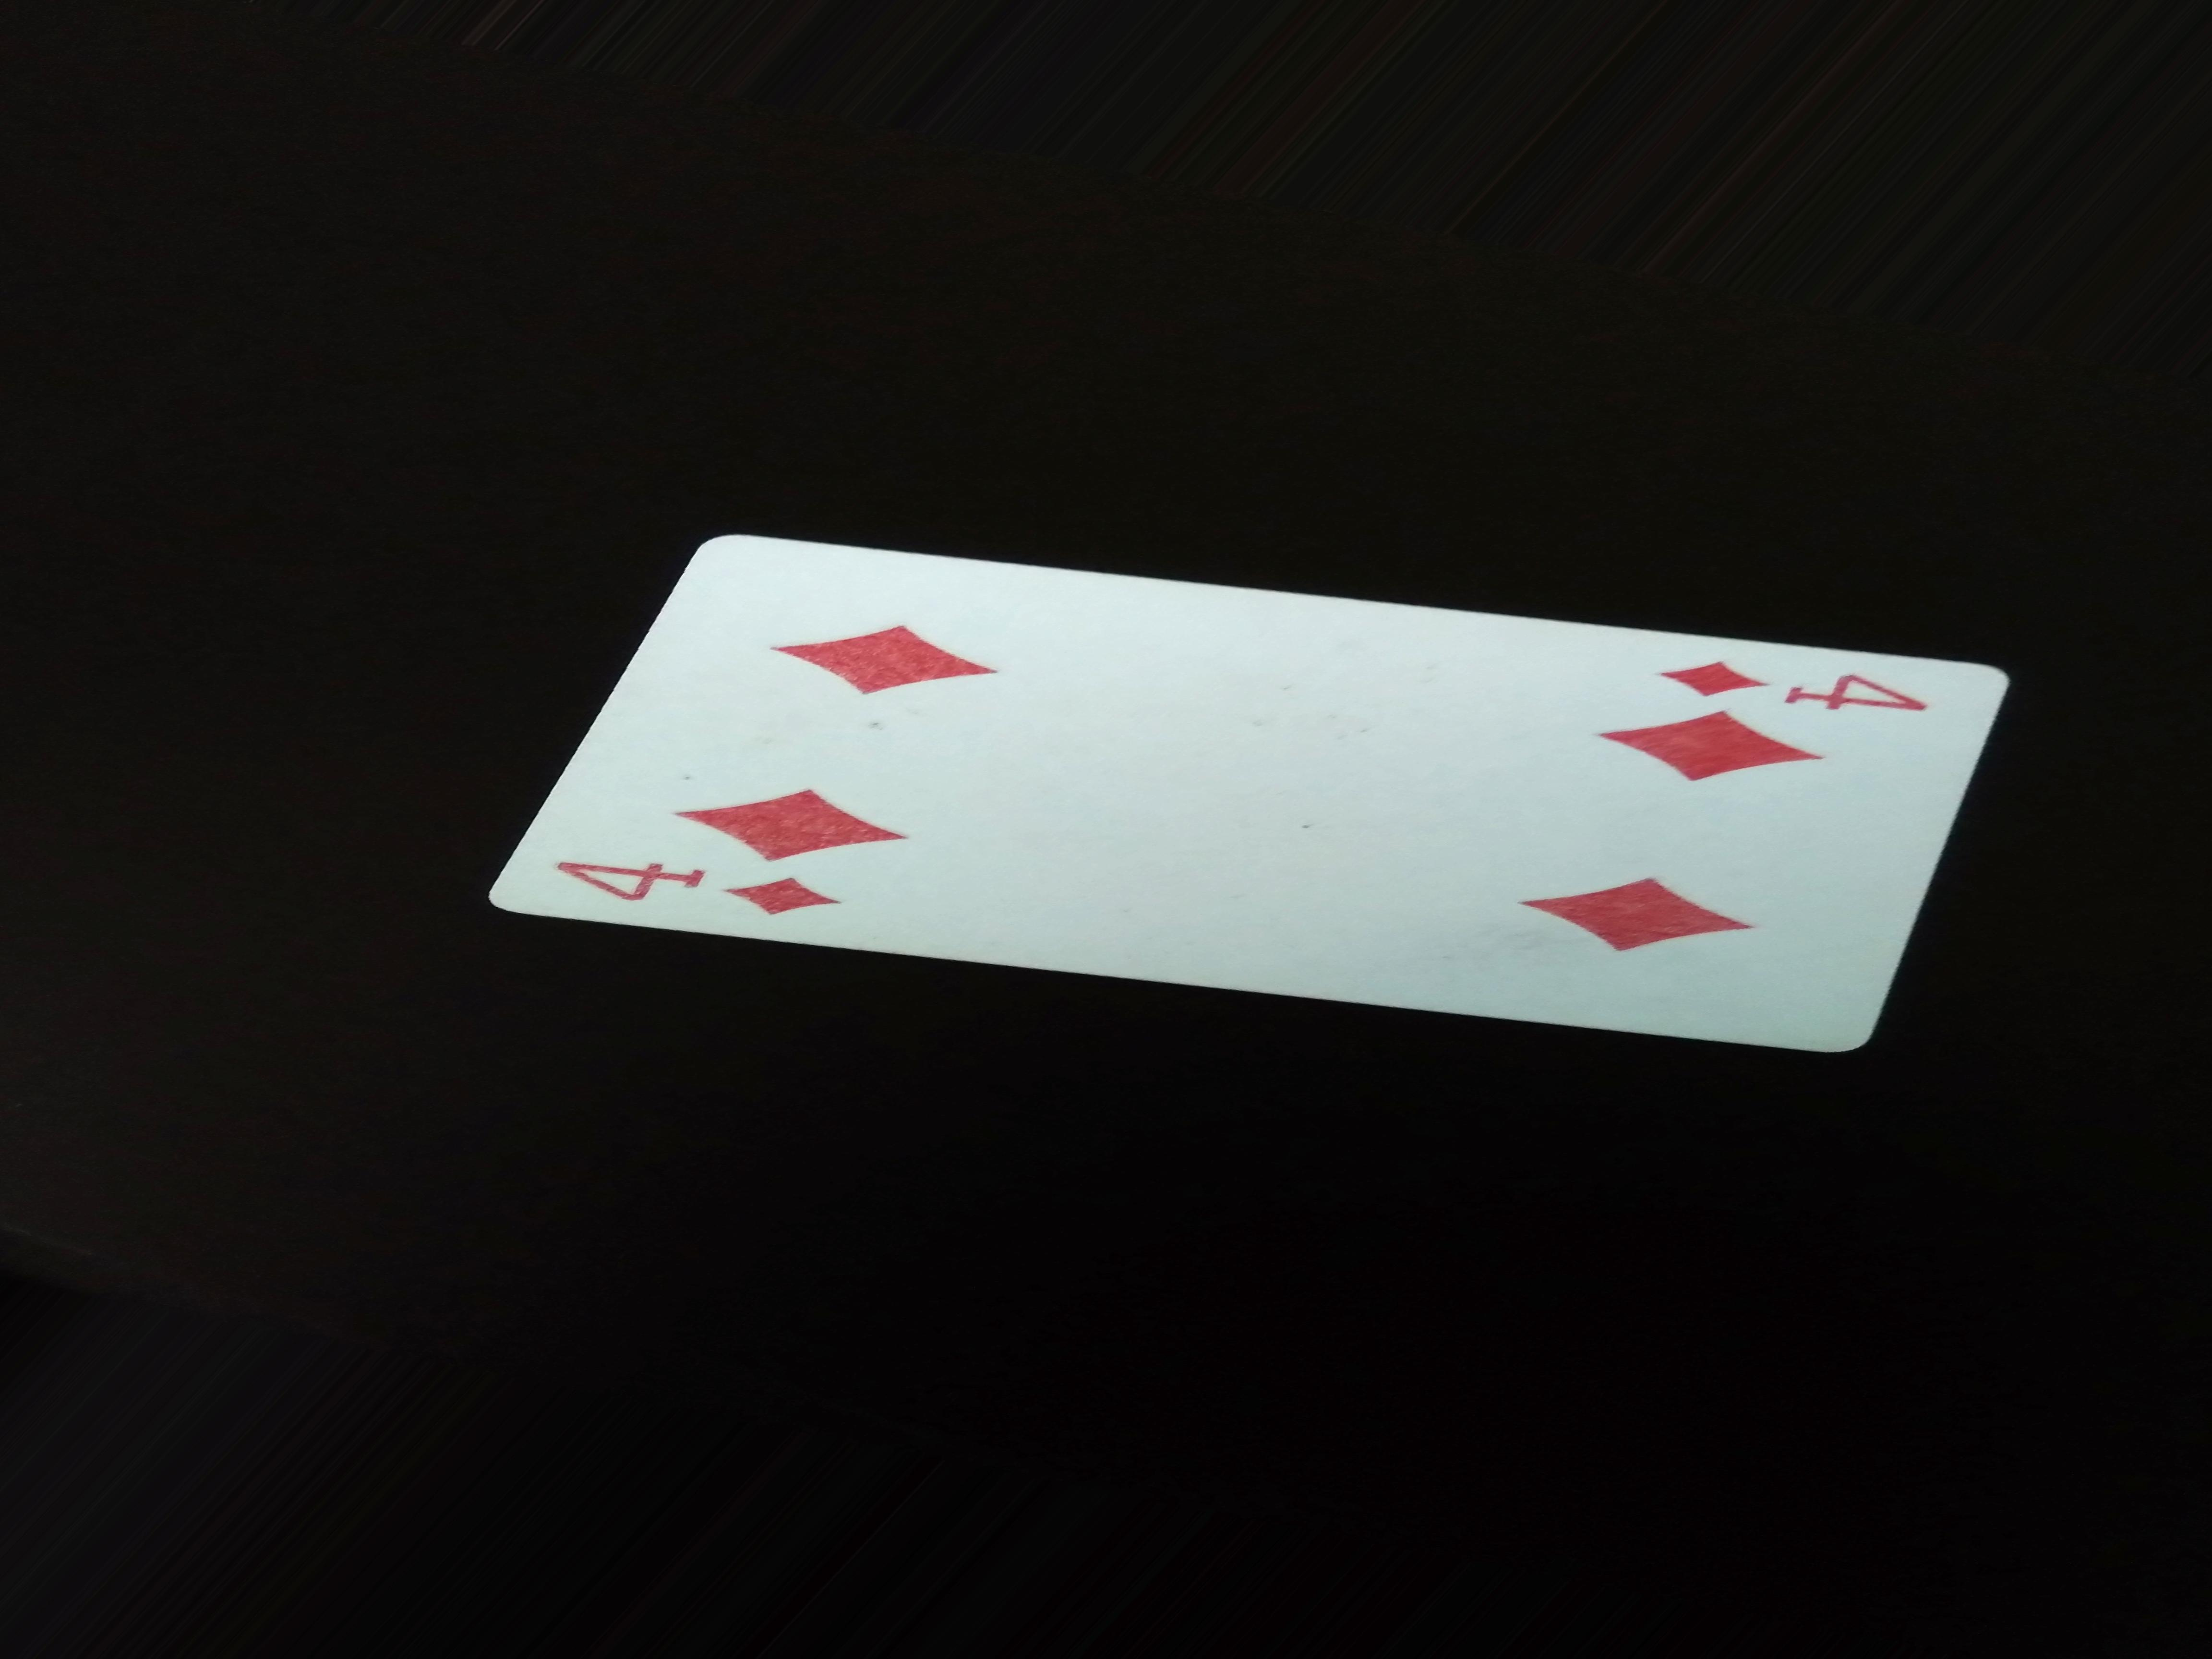4D: (1634, 640, 1959, 730)
